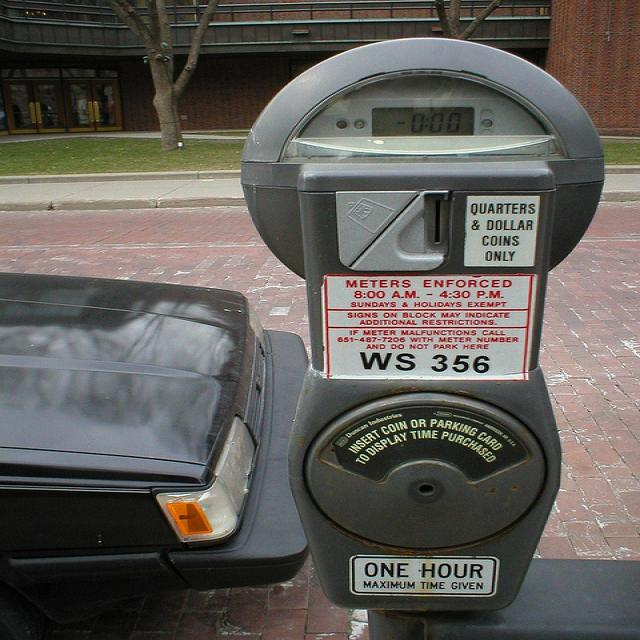Vehicle: (2, 250, 300, 622)
